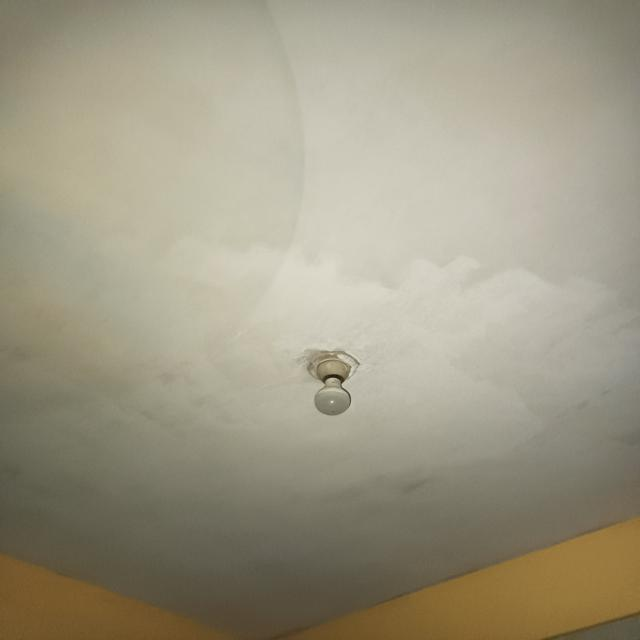bulb_off: (314, 349, 354, 416)
